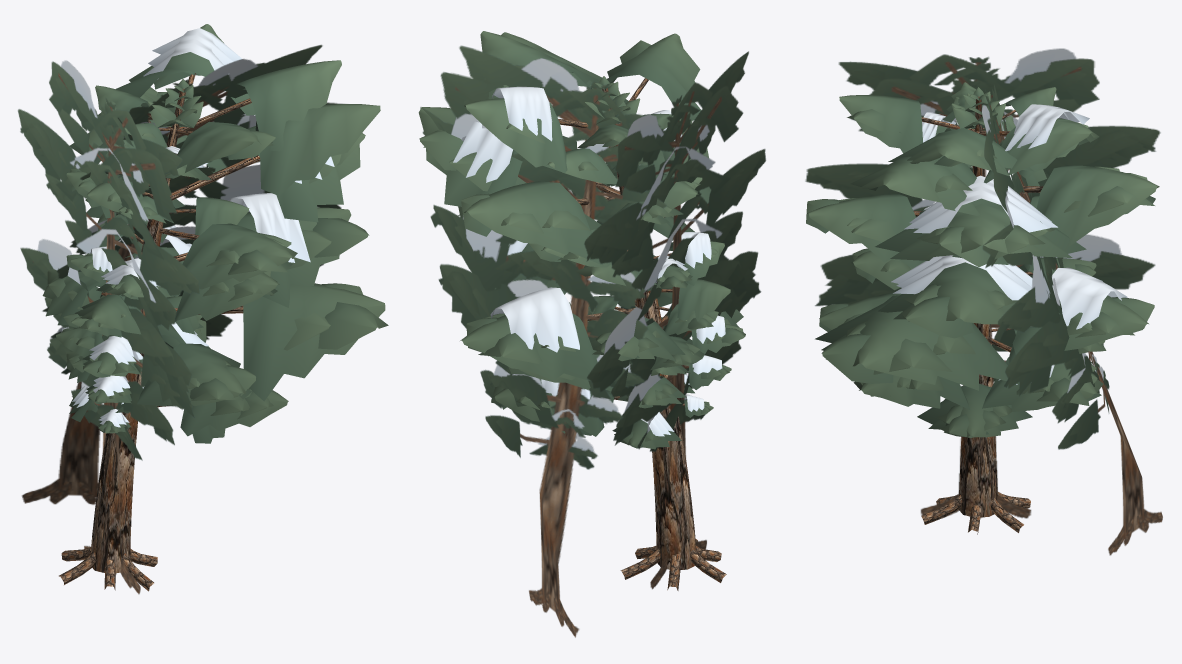
The model's file is tree11.glb.
3 views of the same model, side by side, from view 1: azimuth 30°, elevation 25°; view 2: azimuth 150°, elevation 25°; view 3: azimuth 270°, elevation 25° (orthographic). The views are drawn at different scales.
Parts seen in each view (by area): view 1: Alpine11_1, Empty.004, Alpine11_0, Alpine11_2; view 2: Empty.004, Alpine11_1, Alpine11_2, Alpine11_0; view 3: Alpine11_1, Empty.004, Alpine11_2, Alpine11_0.
Boxes of the visible parts, bbox=[...] form: Alpine11_1: bbox=[42, 24, 388, 443]; Empty.004: bbox=[18, 44, 343, 594]; Alpine11_0: bbox=[59, 73, 260, 591]; Alpine11_2: bbox=[72, 28, 334, 427]; Empty.004: bbox=[420, 45, 765, 637]; Alpine11_1: bbox=[418, 31, 745, 449]; Alpine11_2: bbox=[453, 86, 725, 436]; Alpine11_0: bbox=[558, 78, 726, 590]; Alpine11_1: bbox=[806, 82, 1159, 437]; Empty.004: bbox=[805, 48, 1162, 555]; Alpine11_2: bbox=[891, 104, 1127, 384]; Alpine11_0: bbox=[913, 96, 1043, 534].
Bounding box in the file's own units: 8.68 × 13.03 × 8.99.
Materials: 4 (2 with a texture image).
